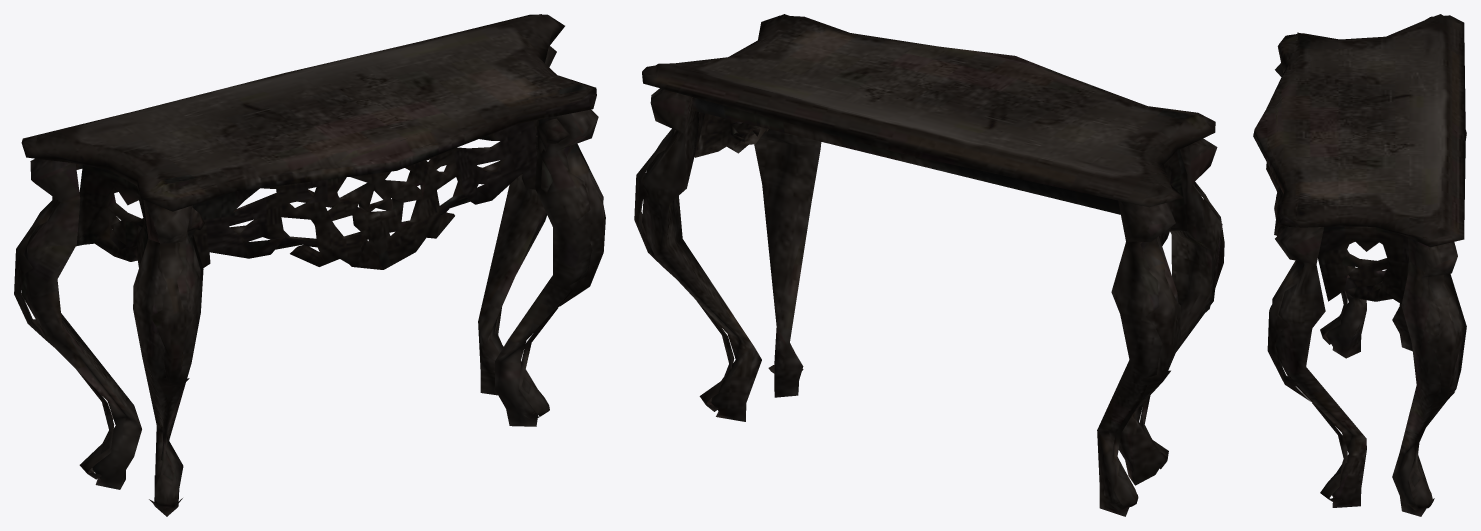
Rendered from console.glb.
3 views of the same model, side by side, from view 1: azimuth 30°, elevation 25°; view 2: azimuth 150°, elevation 25°; view 3: azimuth 270°, elevation 25° (orthographic). The views are drawn at different scales.
Visible parts, largest first — view 1: lo; view 2: lo; view 3: lo.
Boxes of the visible parts, box(x1,y1,x2,y2) form: lo: box(14, 14, 605, 516); lo: box(634, 14, 1224, 516); lo: box(1253, 14, 1466, 516).
Size of the model in its own units: 1.53 by 0.9514 by 0.5979.
Materials: 1 (1 with a texture image).
